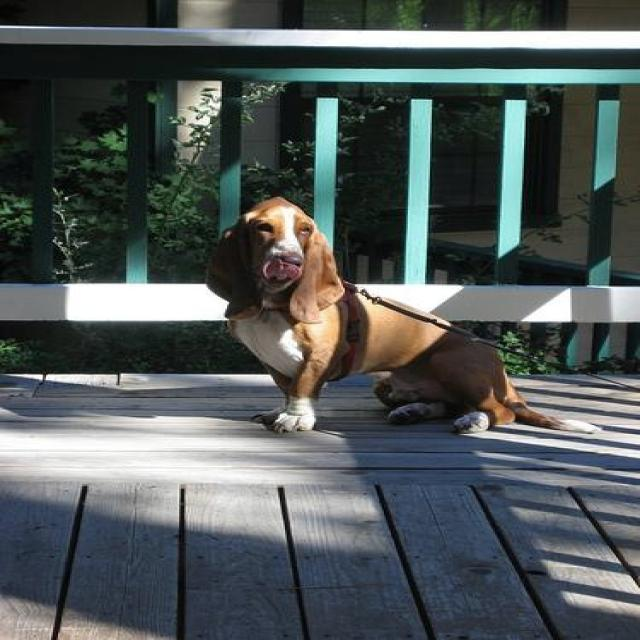basset: (205, 195, 601, 432)
